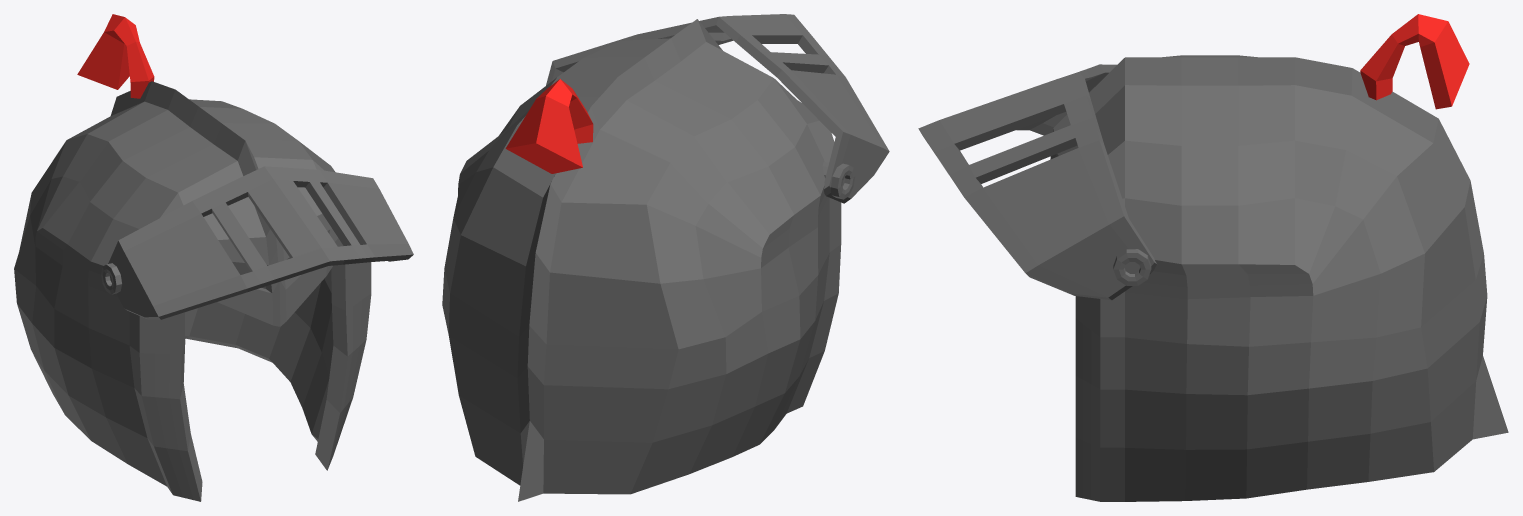
The model's file is helmet1.fbx.
3 views of the same model, side by side, from view 1: azimuth 30°, elevation 25°; view 2: azimuth 150°, elevation 25°; view 3: azimuth 270°, elevation 25° (orthographic). The views are drawn at different scales.
Visible parts, largest first — view 1: Plane; view 2: Plane; view 3: Plane.
Boxes of the visible parts, left/top/right/bottom form: Plane: left=14, top=14, right=413, bottom=501; Plane: left=442, top=14, right=889, bottom=501; Plane: left=918, top=14, right=1508, bottom=501.
Bounding box in the file's own units: 235 × 292 × 350.
